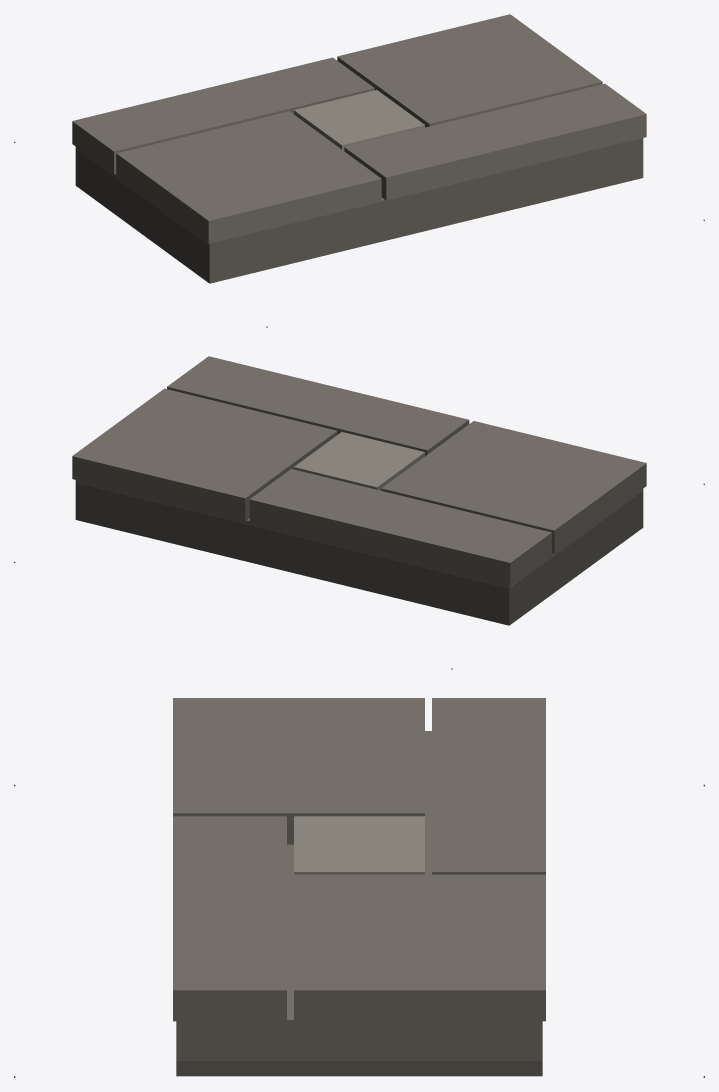
File: floor_stone_straight.glb
3 renders of one model, top to bottom at view 1: azimuth 30°, elevation 25°; view 2: azimuth 150°, elevation 25°; view 3: azimuth 270°, elevation 25°, orthographic. The views are drawn at different scales.
Bounding box in the file's own units: 1 × 0.14 × 1.
Materials: 1 (1 with a texture image).
